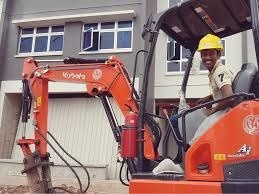helmet: (195, 34, 226, 51)
person with partial safety: (191, 34, 237, 105)
